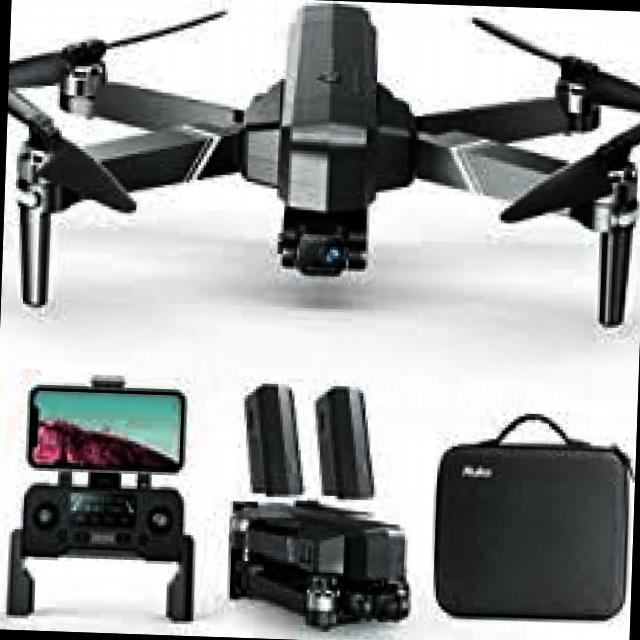drone: (0, 0, 640, 359)
